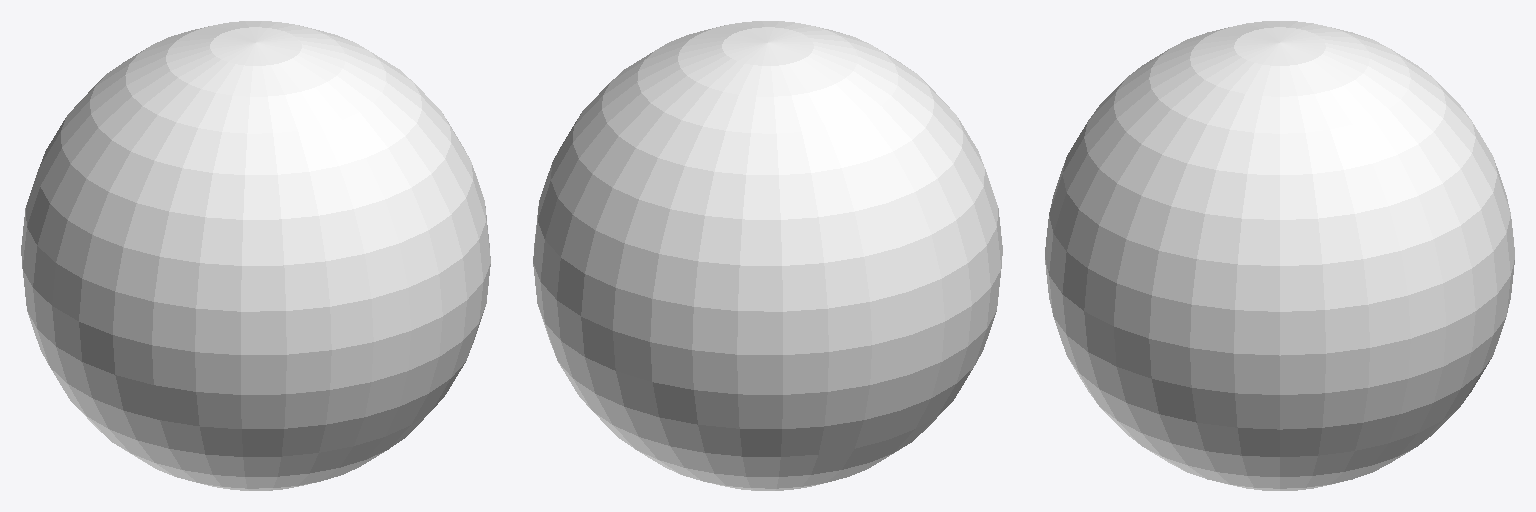
Rendered from white_sphere.obj.
3 views of the same model, side by side, from view 1: azimuth 30°, elevation 25°; view 2: azimuth 150°, elevation 25°; view 3: azimuth 270°, elevation 25° (orthographic).
Visible parts, largest first — view 1: Sphere; view 2: Sphere; view 3: Sphere.
Part boxes in pixels (x1,y1,x2,y2): Sphere: (21, 21, 490, 490); Sphere: (533, 21, 1002, 490); Sphere: (1045, 21, 1514, 490).
Size of the model in its own units: 0.4 by 0.4 by 0.4.